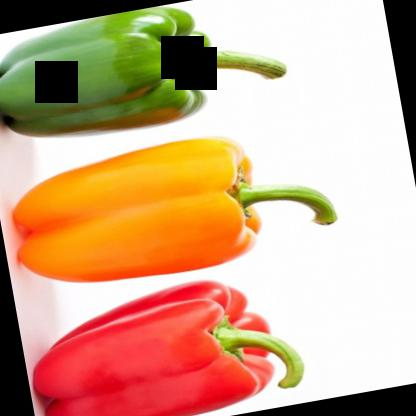bell pepper: (4, 117, 344, 299), (0, 0, 293, 156), (17, 265, 306, 415)
